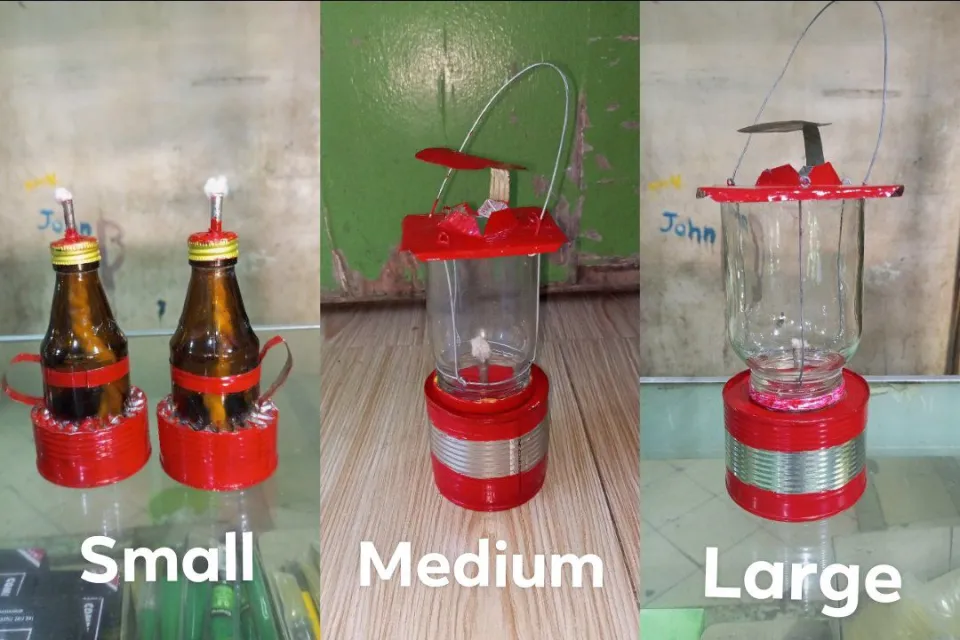Open-Flame-Hazard: (392, 60, 578, 526), (686, 114, 878, 532), (154, 166, 297, 503), (21, 175, 158, 493)
